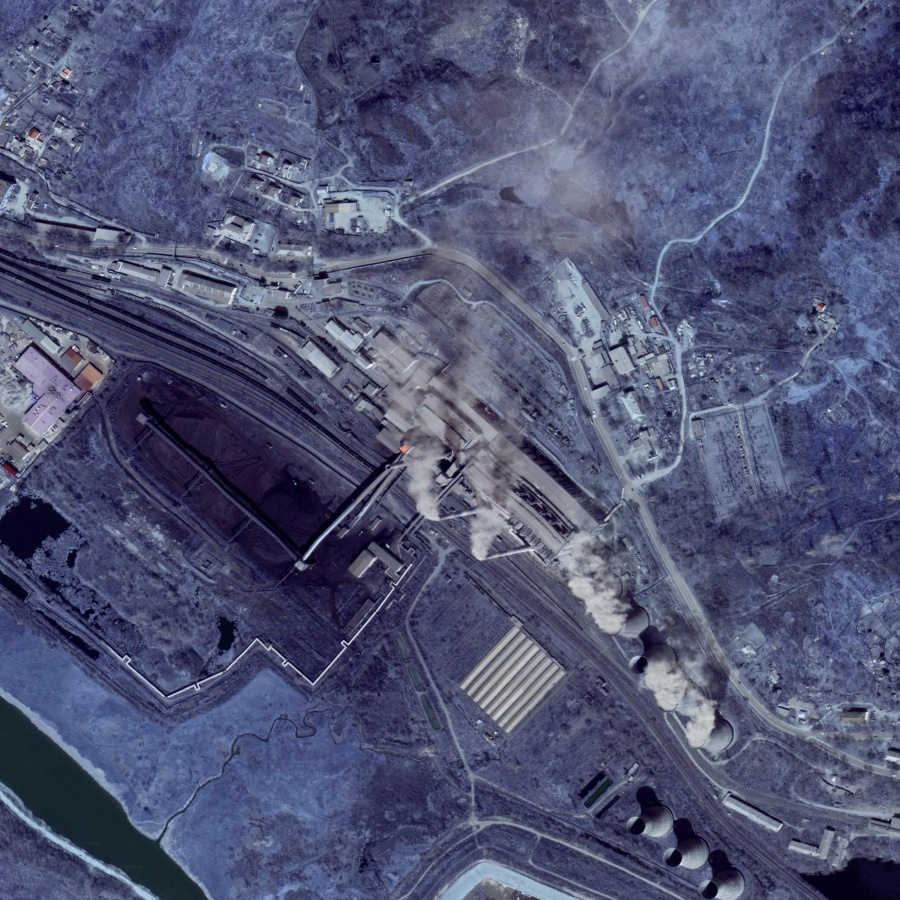PowerPlant: (112, 319, 553, 612)
